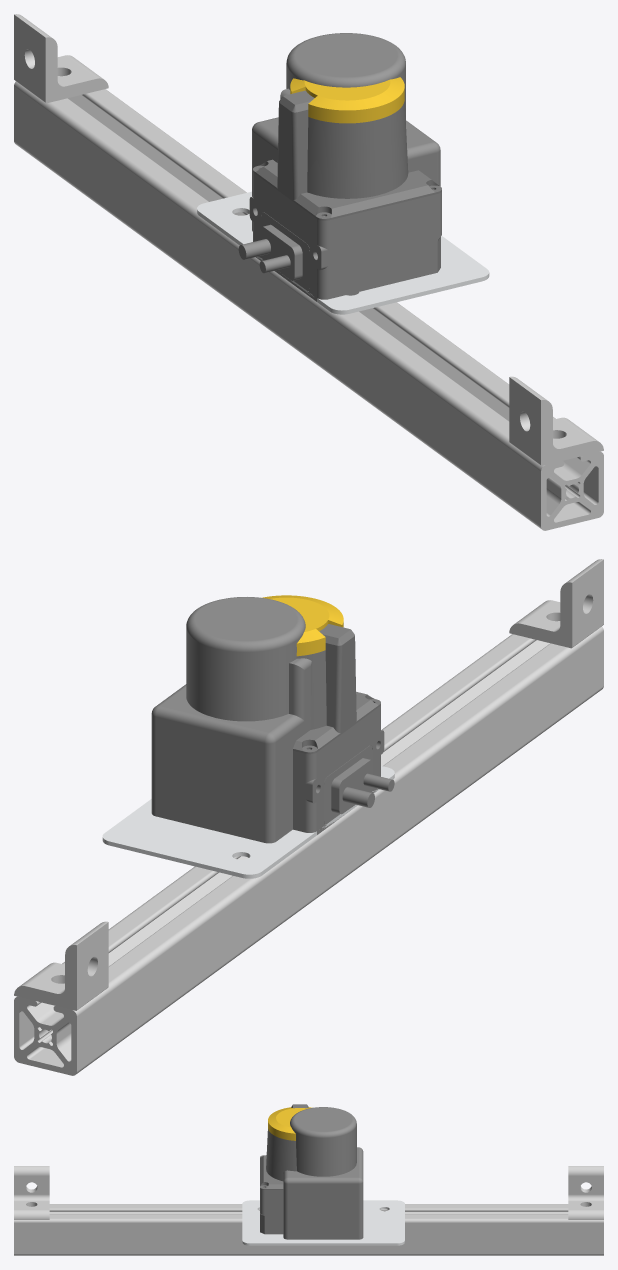
The model's file is hokuyo.dae.
3 views of the same model, one above another, from view 1: azimuth 30°, elevation 25°; view 2: azimuth 150°, elevation 25°; view 3: azimuth 270°, elevation 25° (orthographic). The views are drawn at different scales.
Visible parts, largest first — view 1: Body1, Body5, Body4, Body8, Body9, Body6, Body7, Body2, Body3; view 2: Body1, Body8, Body9, Body5, Body4, Body7, Body6, Body3, Body2; view 3: Body1, Body8, Body9, Body6, Body7, Body5, Body4, Body2.
Boxes of the visible parts, x1=… form: Body1: x1=14, y1=81, x2=603, y2=530; Body5: x1=253, y1=90, x2=441, y2=220; Body4: x1=249, y1=172, x2=441, y2=301; Body8: x1=252, y1=33, x2=440, y2=231; Body9: x1=197, y1=191, x2=489, y2=314; Body6: x1=509, y1=376, x2=603, y2=465; Body7: x1=14, y1=14, x2=108, y2=103; Body2: x1=290, y1=77, x2=404, y2=123; Body3: x1=238, y1=212, x2=309, y2=291; Body1: x1=14, y1=626, x2=603, y2=1075; Body8: x1=151, y1=597, x2=311, y2=843; Body9: x1=102, y1=766, x2=394, y2=878; Body5: x1=293, y1=624, x2=380, y2=754; Body4: x1=293, y1=705, x2=384, y2=834; Body7: x1=14, y1=921, x2=108, y2=1010; Body6: x1=509, y1=559, x2=603, y2=648; Body3: x1=324, y1=745, x2=394, y2=824; Body2: x1=262, y1=595, x2=343, y2=656; Body1: x1=14, y1=1204, x2=603, y2=1255; Body8: x1=283, y1=1107, x2=363, y2=1239; Body9: x1=242, y1=1200, x2=404, y2=1245; Body6: x1=14, y1=1166, x2=49, y2=1219; Body7: x1=568, y1=1166, x2=603, y2=1219; Body5: x1=260, y1=1104, x2=308, y2=1189; Body4: x1=260, y1=1187, x2=283, y2=1234; Body2: x1=268, y1=1107, x2=312, y2=1140.
Size of the model in its own units: 0.0767 by 0.3683 by 0.0981.
